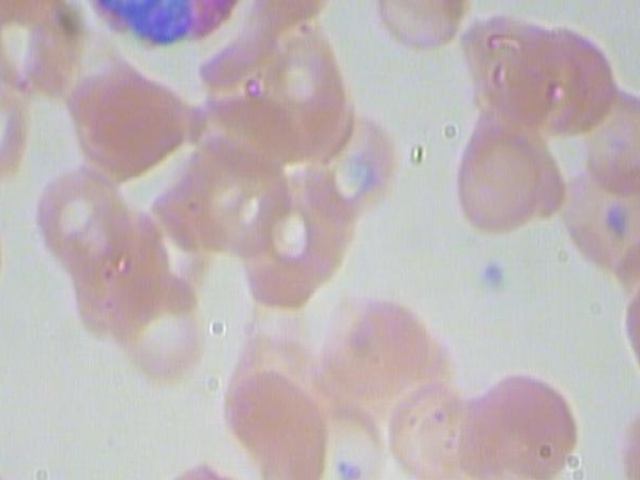Platelets: (473, 254, 517, 300), (327, 449, 372, 480)
RBC: (57, 36, 207, 183), (220, 171, 358, 315), (320, 268, 457, 412), (236, 16, 359, 163), (99, 255, 220, 402), (433, 111, 552, 251), (510, 6, 629, 146), (446, 0, 565, 134), (21, 163, 142, 287), (216, 356, 334, 480), (463, 365, 582, 480), (370, 370, 489, 480), (551, 132, 640, 279), (297, 107, 403, 226), (571, 58, 640, 204), (365, 0, 483, 62)
WBC: (68, 0, 259, 48)
